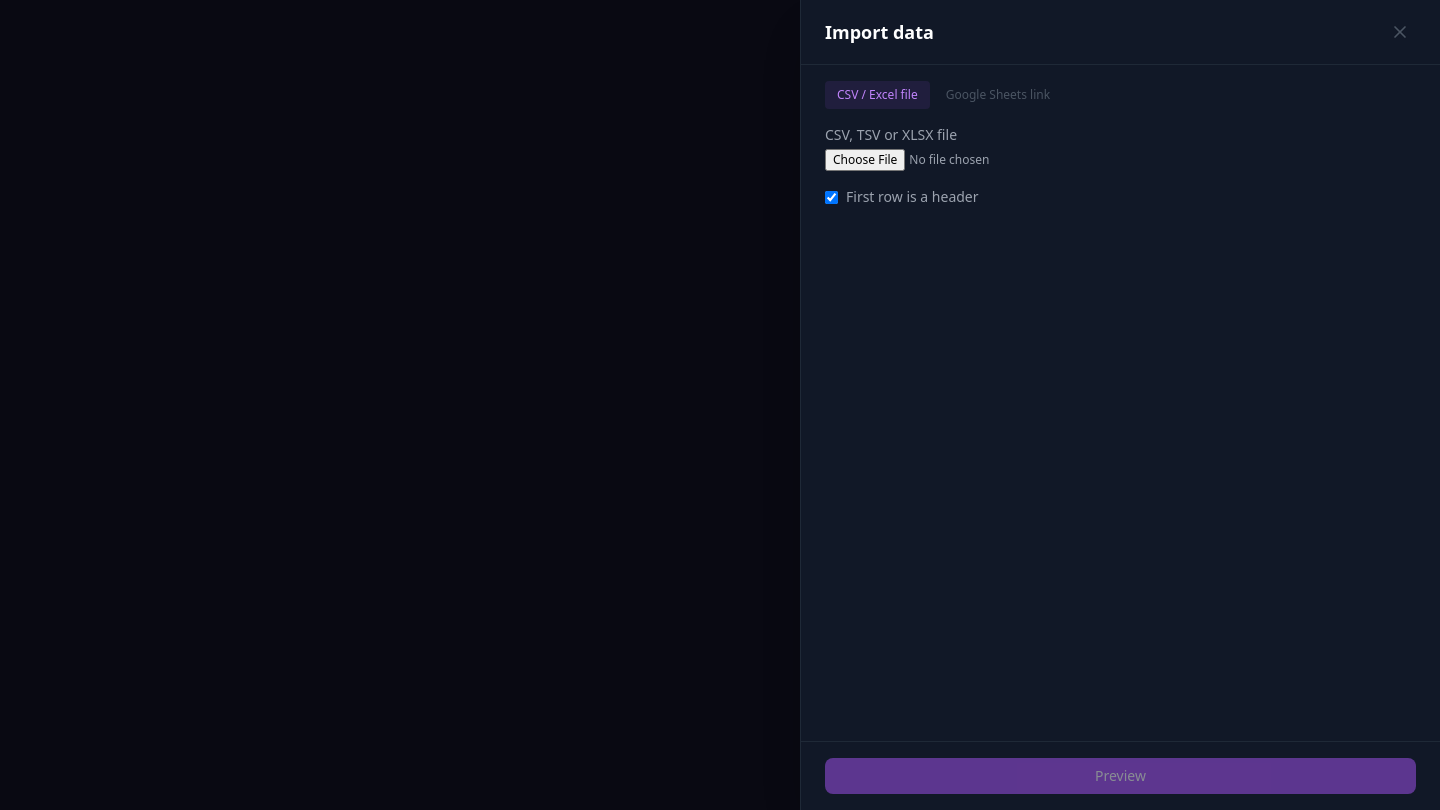
Test: ImportTablePanel › a Google Sheets link is previewed by URL
Click the button with test id "import-source-sheets" at (998, 95), box x1=934 y1=81 x2=1062 y2=109
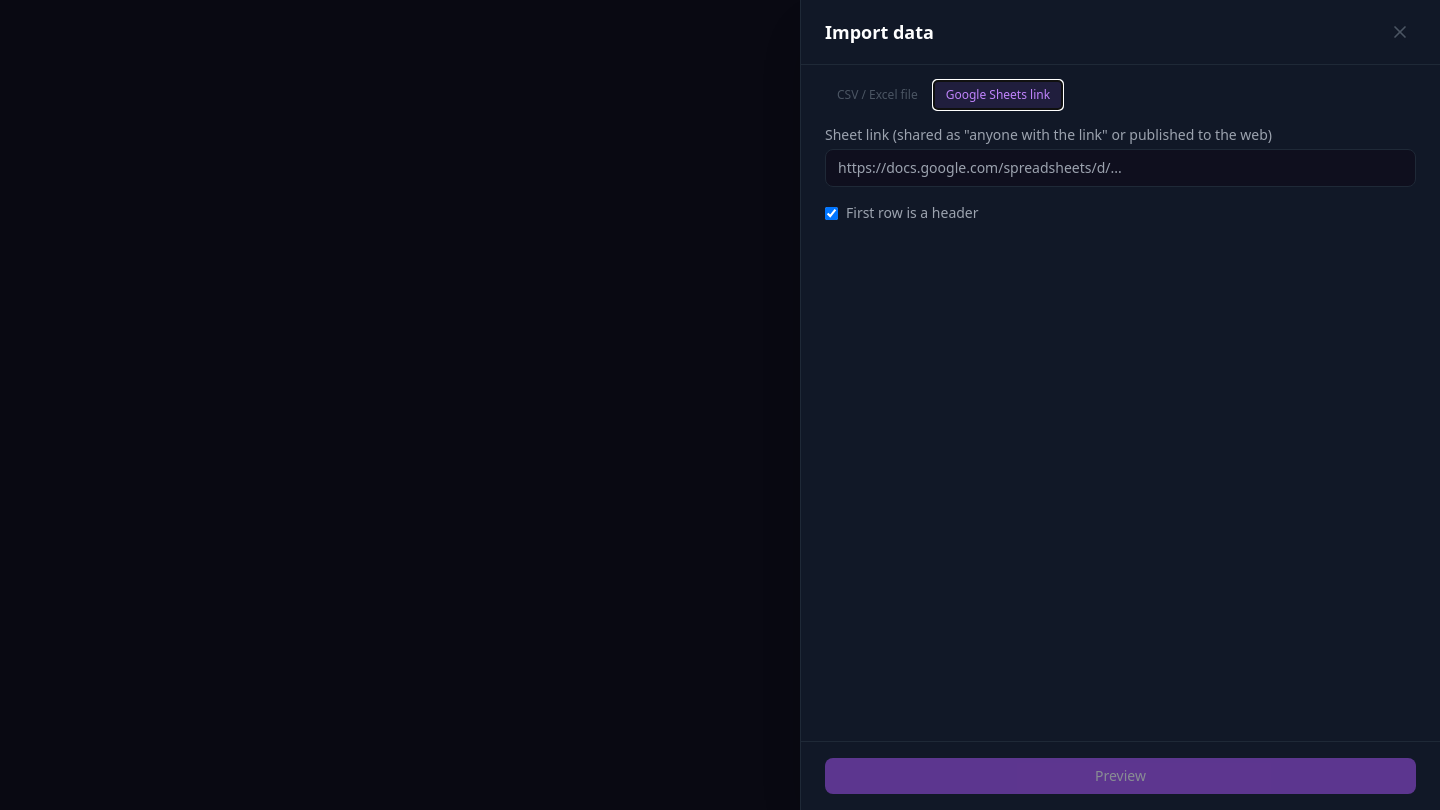
Type "https://docs.google.com/spreadsheets/d/abc/edit" into the field with test id "import-sheets-url" at (1120, 168), box x1=825 y1=149 x2=1416 y2=187
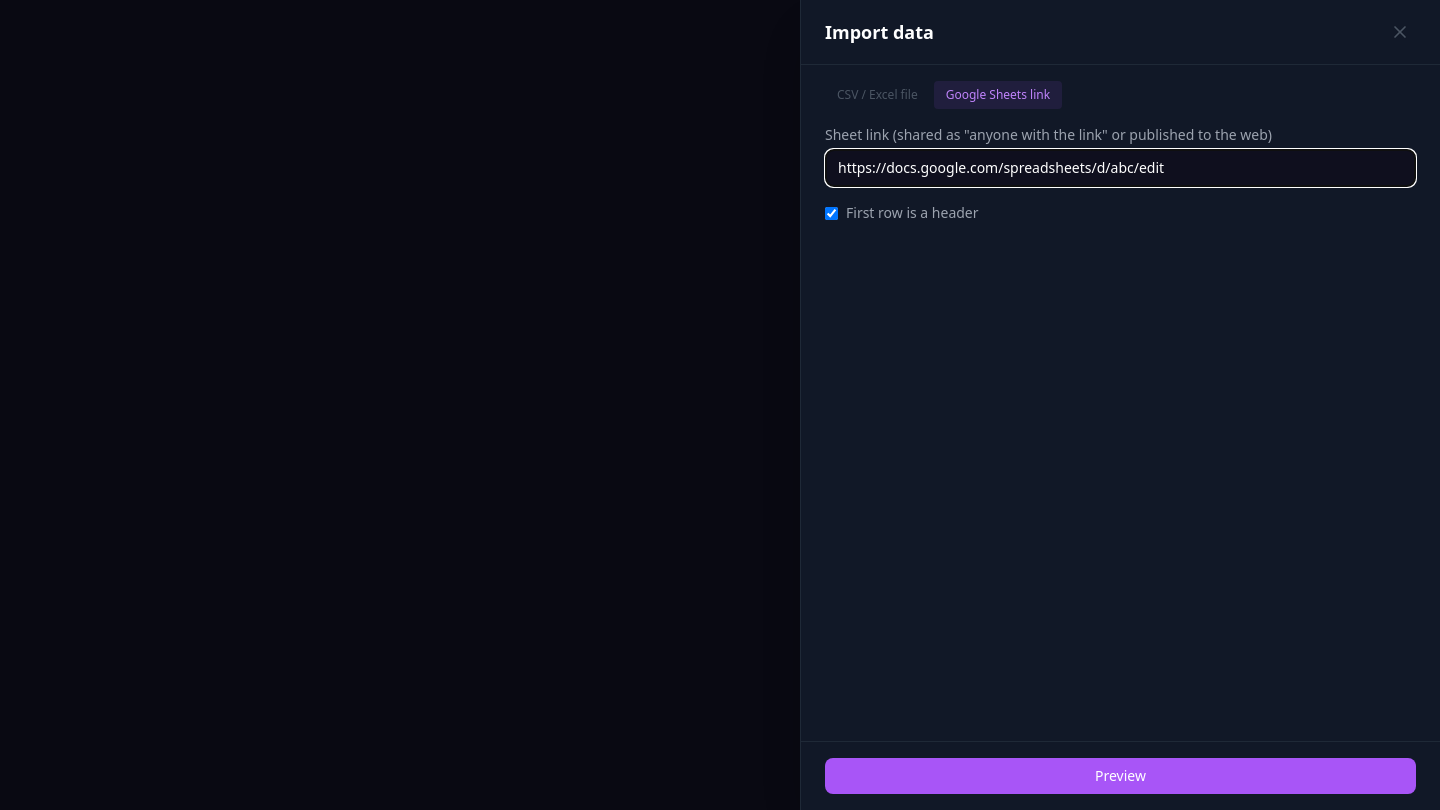
Click the button with test id "import-preview-btn" at (1120, 776), box x1=825 y1=758 x2=1416 y2=794
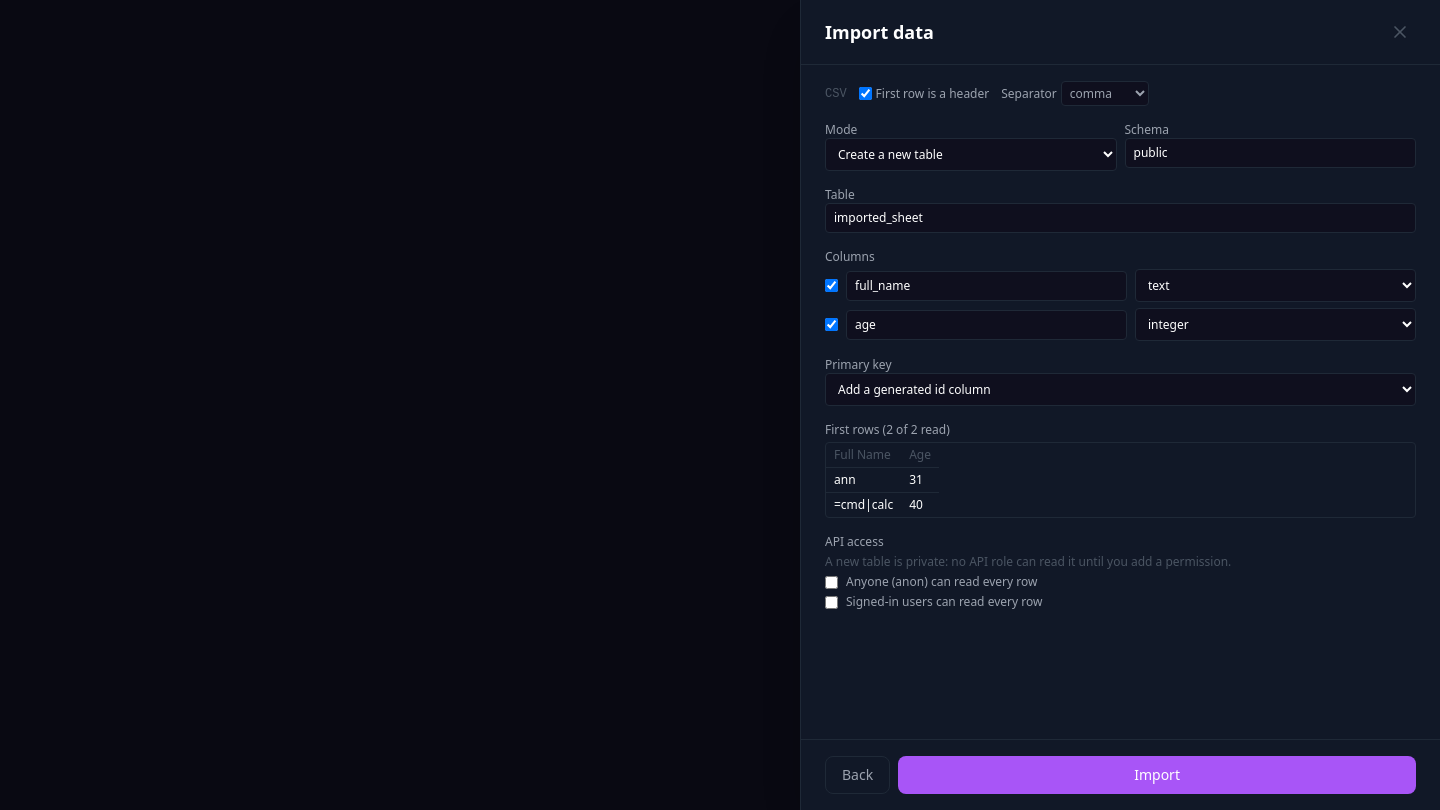
Expected: the element with test id "import-mapping" is shown, x1=825 y1=81 x2=1416 y2=518
